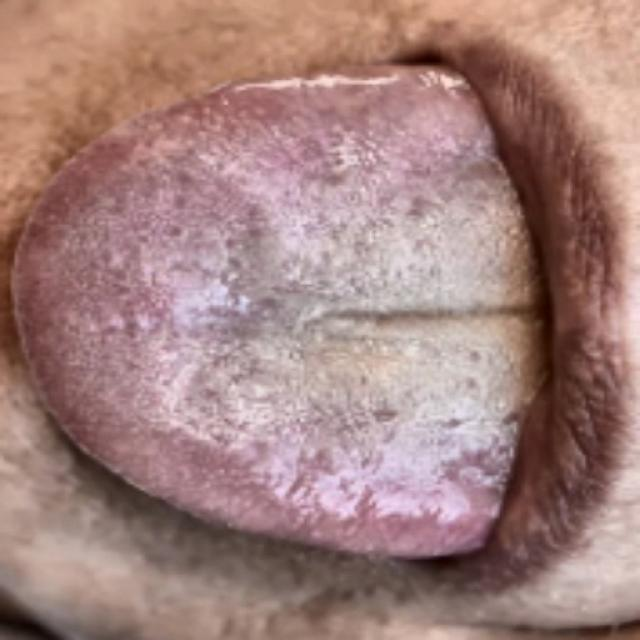leukoplakia-like-detection: (92, 62, 543, 500)
processing_area: (24, 57, 540, 552)
